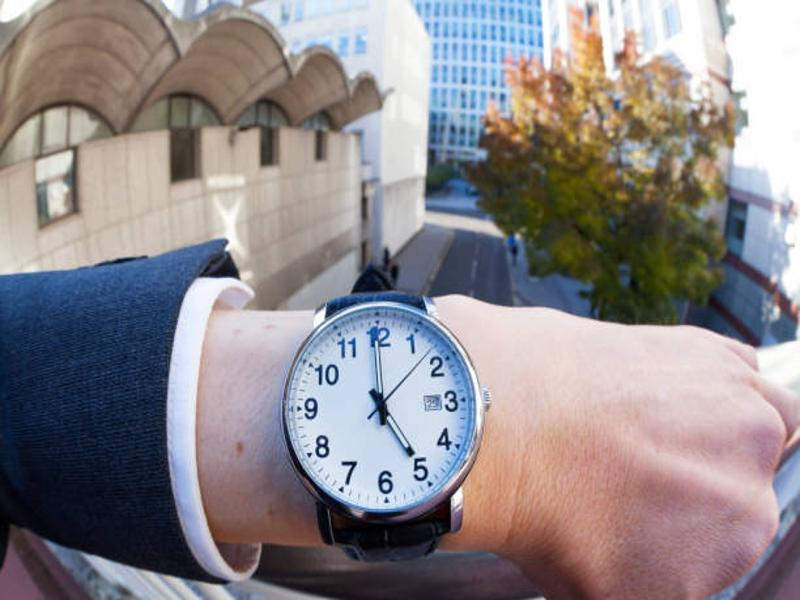watch: (279, 292, 492, 559)
